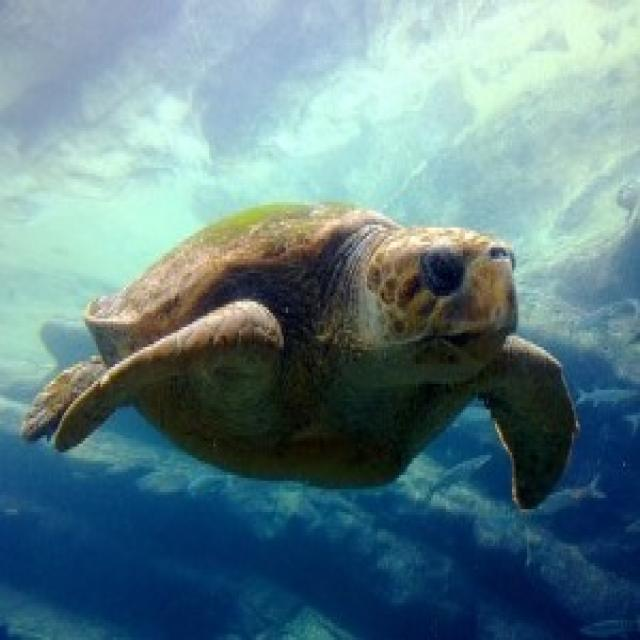Sea turtle: (16, 176, 601, 566)
